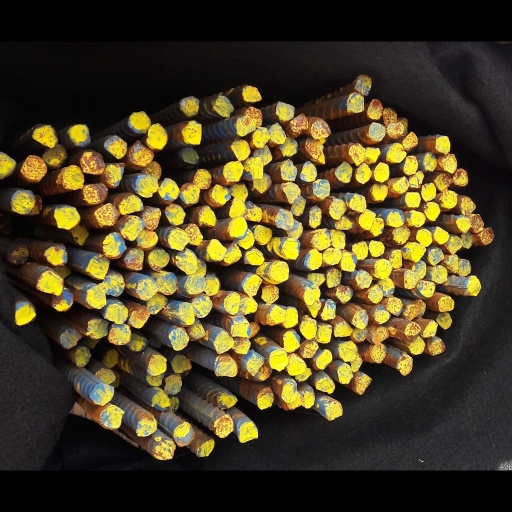dipstick: (8, 174, 41, 207), (52, 193, 80, 229), (29, 94, 58, 128), (34, 272, 64, 303), (22, 136, 50, 168), (134, 280, 160, 312), (144, 97, 169, 130), (118, 208, 146, 237), (126, 80, 151, 112), (79, 133, 107, 161), (101, 227, 128, 256), (60, 146, 86, 176), (171, 454, 196, 485), (84, 253, 110, 282), (11, 311, 36, 341), (265, 259, 290, 289), (99, 435, 125, 463), (180, 96, 205, 125), (135, 159, 160, 188), (103, 109, 127, 139), (116, 181, 146, 205), (69, 96, 92, 127), (82, 170, 109, 196), (213, 372, 239, 399), (150, 474, 177, 500), (174, 249, 199, 277), (129, 121, 153, 150), (174, 312, 195, 344), (189, 303, 213, 331), (94, 193, 119, 219), (223, 142, 246, 170), (265, 366, 288, 394), (86, 287, 106, 319), (277, 167, 302, 192), (44, 242, 70, 266), (385, 119, 408, 146), (299, 325, 319, 356), (109, 335, 131, 363), (239, 275, 260, 304), (130, 314, 151, 343), (402, 239, 426, 264), (178, 65, 201, 91), (189, 150, 212, 176), (163, 193, 186, 219), (212, 344, 235, 370), (86, 327, 109, 353), (208, 170, 230, 197), (299, 140, 321, 167), (309, 223, 331, 250), (274, 199, 296, 226), (72, 365, 94, 392), (124, 246, 146, 273), (279, 233, 301, 260), (254, 412, 275, 440), (56, 343, 80, 367), (336, 357, 359, 382), (144, 373, 167, 398), (90, 409, 115, 432), (148, 248, 170, 274), (374, 258, 395, 285), (373, 142, 394, 169), (168, 221, 189, 248), (282, 346, 302, 374), (169, 340, 189, 368), (141, 196, 161, 224), (106, 313, 129, 337), (346, 180, 369, 204), (213, 415, 237, 438), (314, 398, 338, 421), (159, 162, 178, 191), (369, 358, 388, 387), (240, 51, 265, 73), (227, 210, 249, 235), (184, 277, 206, 302), (403, 201, 425, 226), (8, 241, 30, 266), (312, 164, 333, 190), (163, 394, 184, 420), (103, 278, 124, 304), (303, 115, 324, 141), (0, 130, 17, 162), (354, 37, 374, 64), (184, 217, 204, 244), (305, 245, 324, 273), (464, 279, 483, 307), (234, 88, 257, 111), (344, 63, 366, 87), (136, 445, 157, 470), (208, 232, 226, 261), (314, 366, 334, 392), (353, 395, 373, 421), (238, 451, 258, 477), (275, 71, 296, 95), (243, 245, 264, 269), (367, 94, 388, 118), (268, 96, 286, 124), (350, 236, 370, 261), (199, 196, 218, 222), (303, 289, 322, 315), (421, 328, 440, 354), (224, 240, 243, 266), (351, 316, 369, 343), (396, 372, 414, 399), (432, 111, 453, 134), (323, 430, 344, 453), (212, 66, 232, 90), (389, 160, 409, 184), (222, 300, 241, 325), (439, 134, 458, 159), (385, 196, 404, 221), (152, 418, 171, 443), (290, 86, 308, 112), (323, 245, 344, 267), (335, 291, 356, 313), (432, 155, 453, 177), (388, 160, 409, 182), (311, 93, 331, 116), (328, 188, 348, 211), (266, 315, 286, 338), (229, 334, 252, 354), (253, 100, 270, 127), (189, 332, 206, 359), (332, 331, 351, 355), (421, 133, 439, 158), (216, 445, 234, 470), (325, 269, 343, 294), (355, 145, 372, 171), (400, 335, 421, 356), (426, 352, 446, 374), (358, 200, 377, 223), (254, 219, 273, 242), (299, 356, 318, 379), (170, 374, 193, 393), (283, 313, 298, 342), (279, 144, 297, 168), (348, 122, 366, 146), (408, 350, 426, 374), (477, 220, 495, 244), (280, 406, 298, 430), (335, 143, 352, 168), (227, 189, 248, 209), (393, 219, 412, 241), (372, 315, 391, 337), (436, 302, 455, 324), (424, 191, 440, 217), (418, 283, 436, 306), (355, 271, 373, 294), (262, 290, 280, 313), (385, 305, 402, 329), (246, 374, 263, 398), (403, 310, 420, 334), (329, 224, 346, 248), (460, 183, 476, 208), (320, 307, 336, 332), (196, 475, 215, 496), (181, 126, 200, 147), (232, 118, 250, 140), (371, 168, 389, 190), (368, 236, 386, 258), (103, 366, 121, 388), (446, 253, 461, 279), (317, 337, 333, 361), (438, 179, 458, 198), (286, 380, 306, 399), (368, 293, 386, 314), (429, 267, 447, 288), (367, 69, 382, 94), (432, 221, 449, 243), (402, 108, 419, 130), (203, 280, 220, 302), (455, 207, 471, 230), (469, 205, 485, 228), (405, 179, 423, 199), (383, 76, 398, 100), (301, 415, 316, 439), (452, 152, 468, 174), (459, 254, 472, 280), (428, 244, 444, 265), (403, 272, 418, 294), (447, 232, 463, 252), (333, 210, 354, 225), (307, 274, 325, 291), (349, 373, 364, 392), (288, 424, 304, 439)
